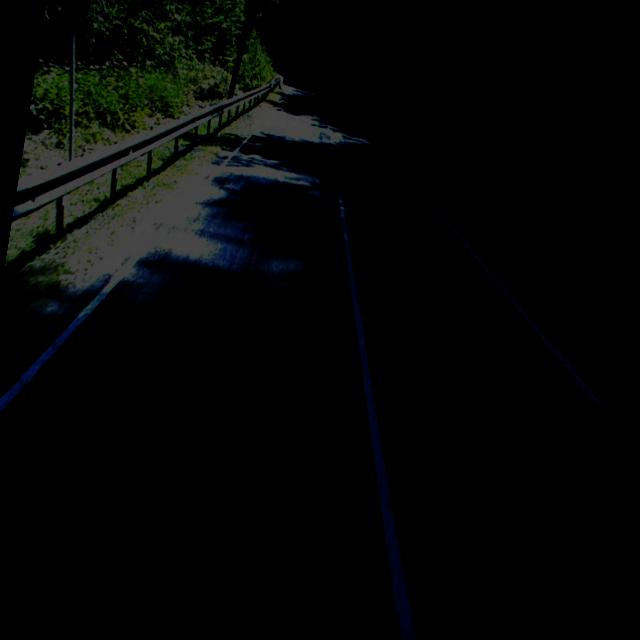road: (0, 78, 626, 640)
